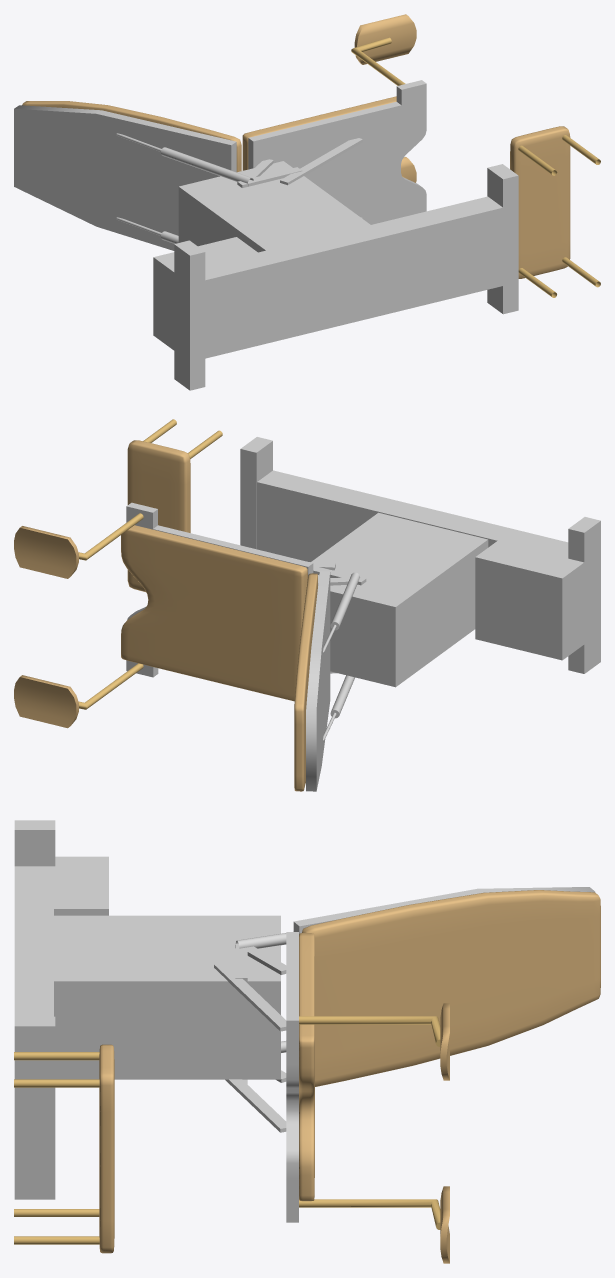
The picture shows the model from 3 angles, top to bottom: view 1: azimuth 30°, elevation 25°; view 2: azimuth 150°, elevation 25°; view 3: azimuth 270°, elevation 25°; orthographic projection. The views are drawn at different scales.
Visible parts, largest first — view 1: Cube.006; view 2: Cube.006; view 3: Cube.006.
Part boxes in pixels (x1=…): Cube.006: x1=14, y1=14, x2=600, y2=390; Cube.006: x1=14, y1=419, x2=600, y2=791; Cube.006: x1=14, y1=820, x2=600, y2=1263.
Bounding box in the file's own units: 161 × 67.07 × 154.
